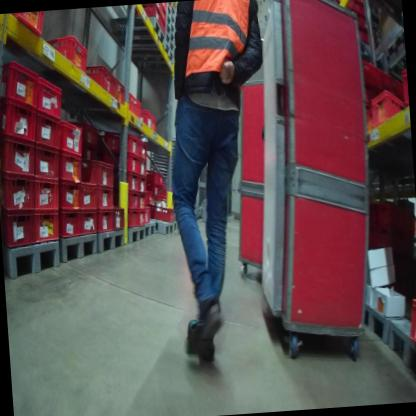pallet: (2, 242, 64, 283), (387, 314, 416, 395), (110, 13, 165, 49), (360, 302, 399, 351), (55, 232, 100, 267), (123, 42, 177, 71), (97, 225, 128, 255), (384, 26, 406, 66), (153, 218, 175, 240), (165, 13, 179, 36), (144, 220, 158, 242), (128, 226, 147, 242), (167, 5, 178, 27), (166, 34, 176, 54), (168, 23, 177, 43), (168, 3, 179, 19), (173, 220, 181, 237)
small_load_carrier: (41, 32, 96, 84), (0, 90, 42, 149), (0, 60, 40, 119), (0, 122, 37, 185), (83, 62, 130, 110), (0, 161, 38, 216), (368, 86, 406, 136), (0, 208, 38, 252), (34, 69, 65, 118), (33, 105, 61, 157), (32, 141, 63, 184), (83, 154, 116, 193), (102, 124, 140, 156), (6, 12, 47, 39), (34, 175, 62, 214), (56, 114, 82, 155), (57, 151, 85, 186), (33, 206, 59, 243), (124, 86, 146, 129), (56, 174, 80, 211), (58, 204, 82, 240), (133, 5, 165, 32), (74, 175, 98, 210), (75, 208, 100, 237), (109, 152, 138, 177), (113, 206, 140, 232), (404, 289, 416, 342), (96, 208, 118, 236), (142, 105, 160, 136), (152, 203, 178, 223), (94, 187, 116, 210), (399, 64, 409, 112), (136, 206, 151, 227), (137, 138, 149, 164), (126, 189, 138, 214), (126, 174, 138, 195), (139, 157, 150, 179), (135, 191, 148, 207), (138, 174, 147, 191)
